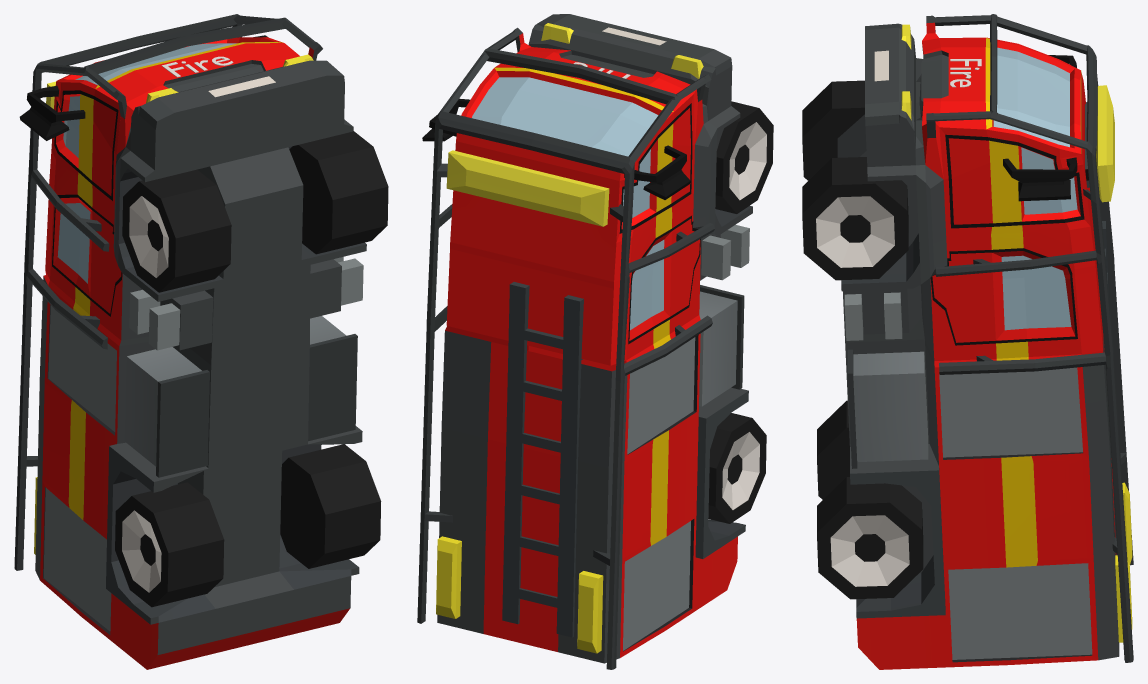
Rendered from ForestFireTruck1.fbx.
The picture shows the model from 3 angles, left to right: view 1: azimuth 30°, elevation 25°; view 2: azimuth 150°, elevation 25°; view 3: azimuth 270°, elevation 25°; orthographic projection. The views are drawn at different scales.
Visible parts, largest first — view 1: FireText; view 2: FireText; view 3: FireText.
Boxes of the visible parts, x1=… form: FireText: x1=14, y1=14, x2=388, y2=669; FireText: x1=417, y1=14, x2=773, y2=669; FireText: x1=802, y1=14, x2=1133, y2=669.
Bounding box in the file's own units: 137 × 291 × 154.
1 material, 1 textured.
